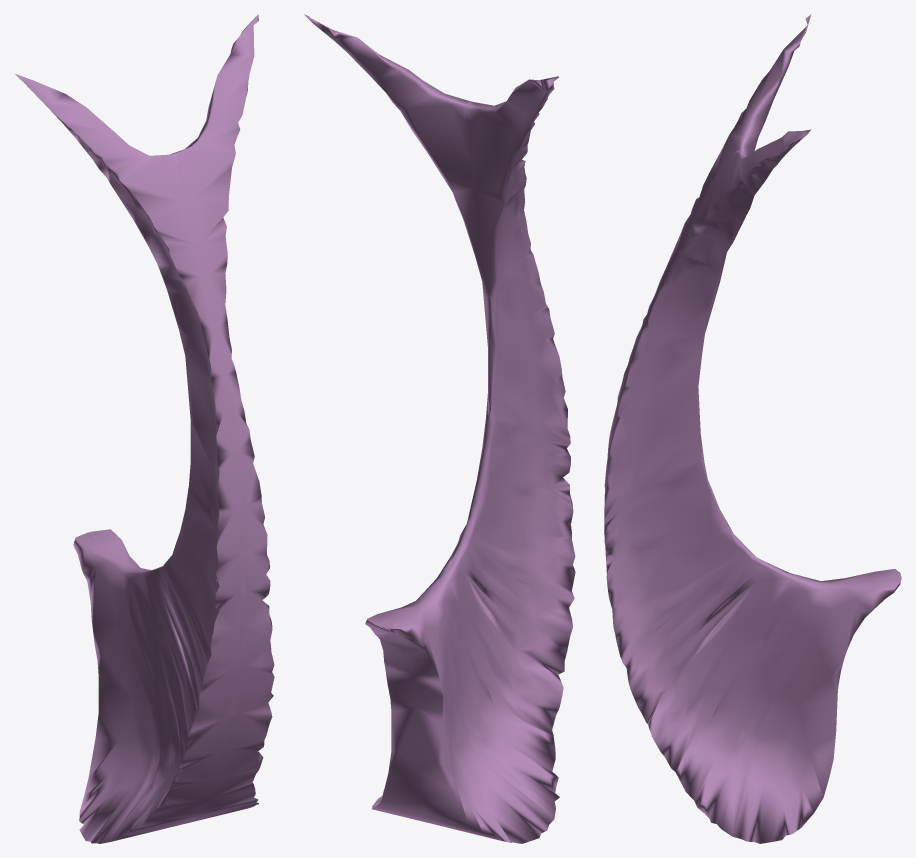
3 views of the same model, side by side, from view 1: azimuth 30°, elevation 25°; view 2: azimuth 150°, elevation 25°; view 3: azimuth 270°, elevation 25° (orthographic). The views are drawn at different scales.
Parts seen in each view (by area): view 1: 透明隔; view 2: 透明隔; view 3: 透明隔.
Boxes of the visible parts, left/top/right/bottom form: 透明隔: left=15, top=14, right=274, bottom=843; 透明隔: left=304, top=14, right=575, bottom=843; 透明隔: left=604, top=14, right=901, bottom=843.
Bounding box in the file's own units: 0.0301 × 0.0895 × 0.0328.
